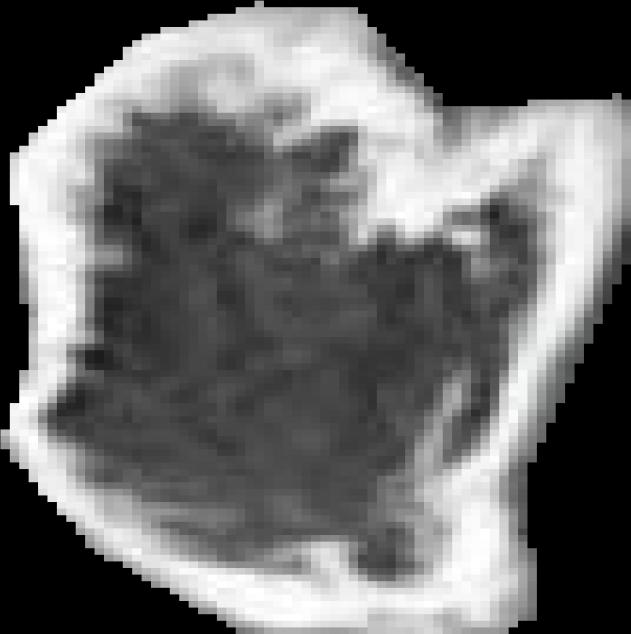tumor_moderate_chance: (0, 1, 631, 634)
